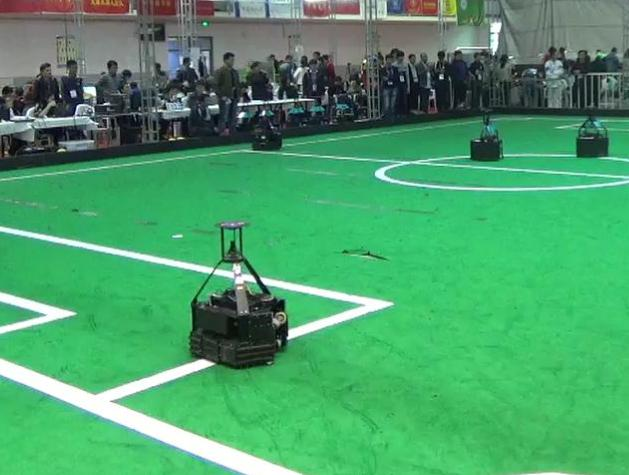robot: (183, 213, 297, 376), (466, 106, 511, 166), (568, 106, 613, 162)
